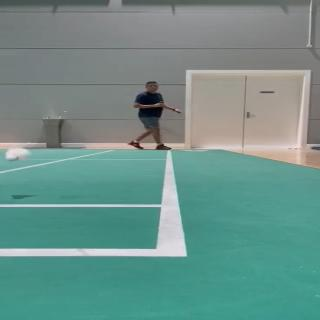Shuttle: (5, 148, 30, 161)
